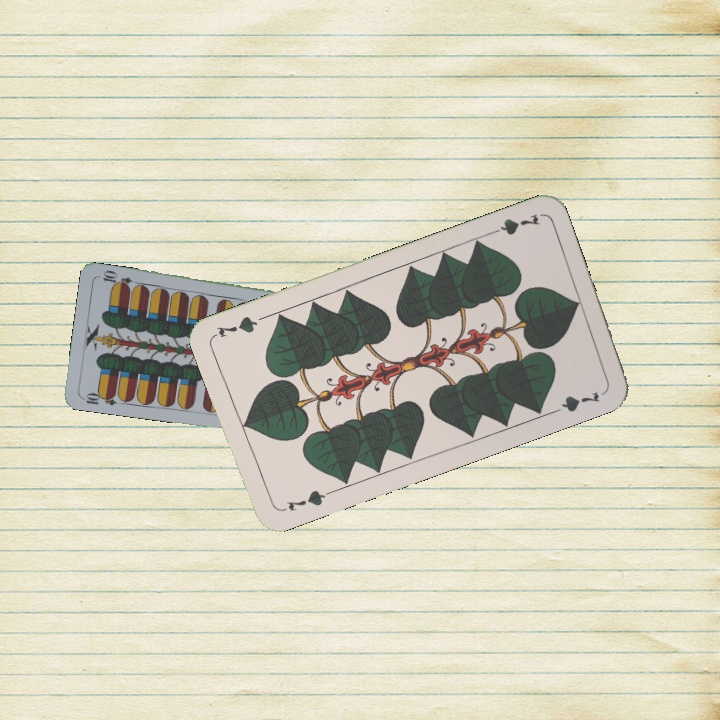E10: (78, 388, 118, 408)
G7: (484, 209, 543, 238), (276, 486, 334, 515)
